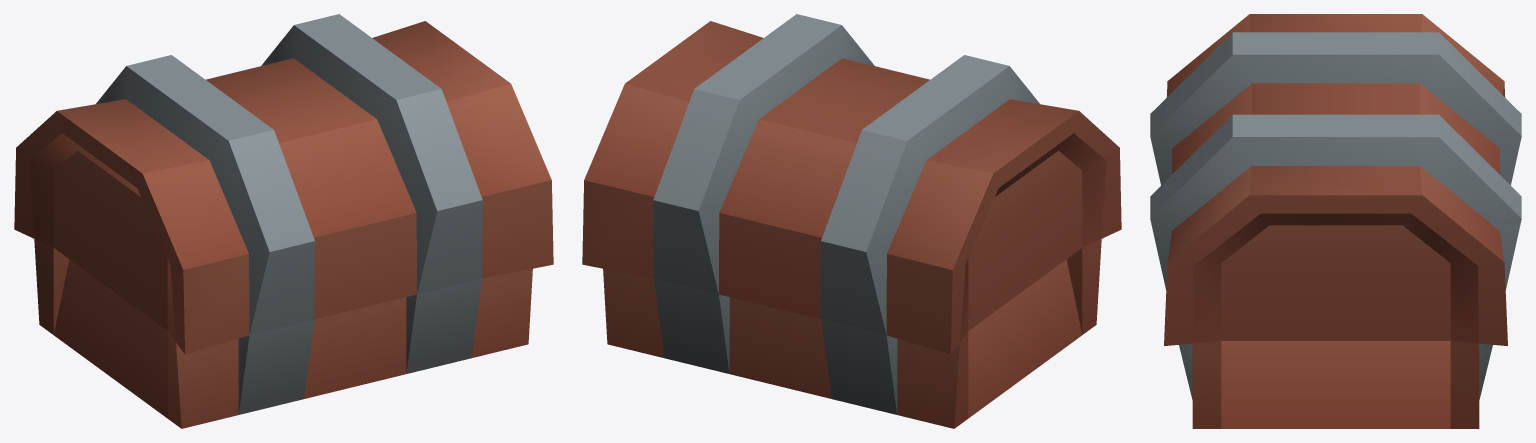
Rendered from trunk_large_A.gltf.
The picture shows the model from 3 angles, left to right: view 1: azimuth 30°, elevation 25°; view 2: azimuth 150°, elevation 25°; view 3: azimuth 270°, elevation 25°; orthographic projection.
Visible parts, largest first — view 1: trunk_large_A; view 2: trunk_large_A; view 3: trunk_large_A.
Boxes of the visible parts, x1,y1,x2,y2 form: trunk_large_A: (14,14,553,428); trunk_large_A: (582,14,1121,428); trunk_large_A: (1150,14,1521,428).
Bounding box in the file's own units: 1.5 × 1 × 1.3.
Materials: 1 (1 with a texture image).
